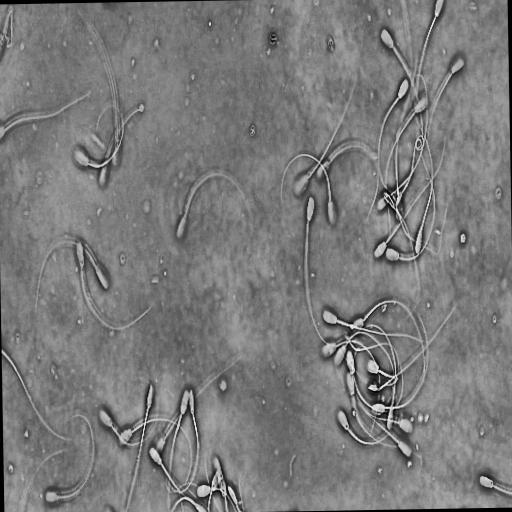dirt-particles: (459, 233, 466, 244)
distal-droplet: (349, 324, 355, 330)
loose-tail: (2, 343, 75, 445)
normal: (290, 46, 360, 203), (373, 138, 448, 261), (349, 296, 428, 403), (74, 237, 156, 333), (301, 193, 346, 351), (369, 308, 432, 420), (383, 151, 437, 265), (118, 414, 194, 493), (349, 366, 413, 459), (379, 25, 424, 156), (32, 238, 110, 312), (176, 169, 253, 241), (316, 141, 381, 226), (279, 147, 338, 229), (320, 305, 430, 348), (44, 413, 96, 503), (337, 373, 399, 447), (424, 58, 465, 168), (123, 379, 156, 512), (376, 75, 411, 196), (164, 386, 200, 495), (410, 105, 435, 257), (71, 101, 125, 169), (414, 0, 445, 115), (148, 444, 202, 510), (167, 387, 191, 512)
proximal-droplet: (420, 225, 423, 231)
